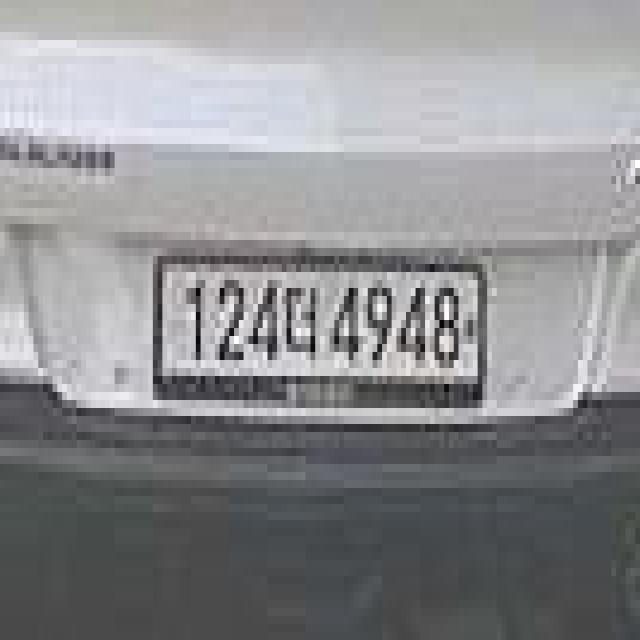illegal_plate: (152, 244, 490, 416)
